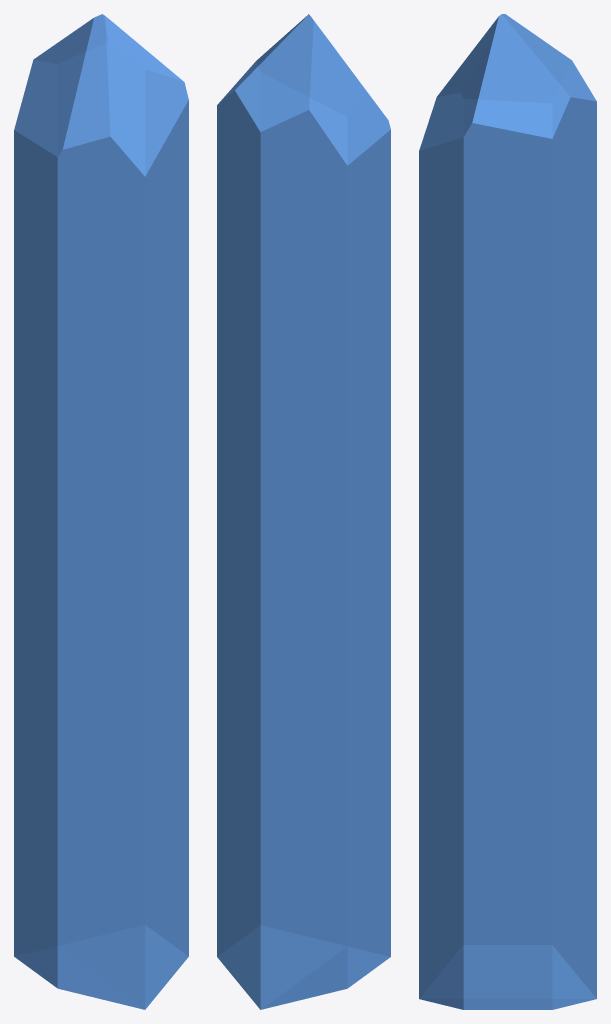
The model's file is Crystal_m_10.fbx.
3 views of the same model, side by side, from view 1: azimuth 30°, elevation 25°; view 2: azimuth 150°, elevation 25°; view 3: azimuth 270°, elevation 25° (orthographic). The views are drawn at different scales.
Visible parts, largest first — view 1: Crystal_m_10; view 2: Crystal_m_10; view 3: Crystal_m_10.
Part boxes in pixels (x1,y1,x2,y2): Crystal_m_10: (14,14,188,1009); Crystal_m_10: (217,14,390,1009); Crystal_m_10: (419,14,596,1009).
Size of the model in its own units: 0.3783 by 2.67 by 0.4368.
